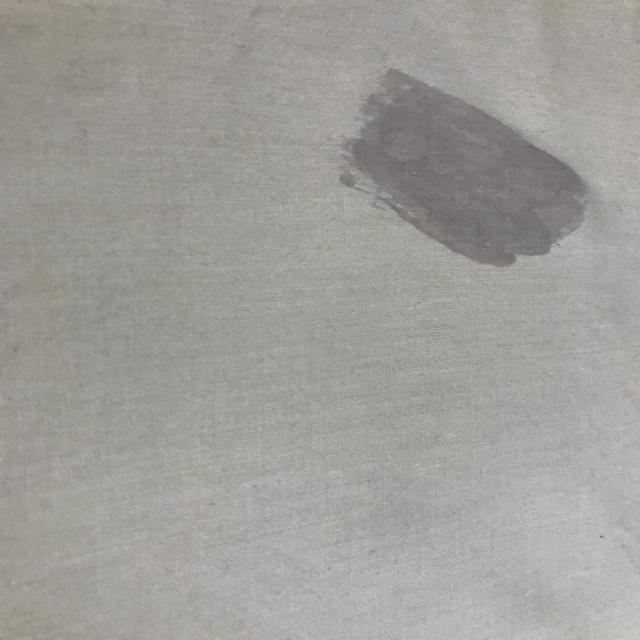Stain: (341, 68, 586, 266)
